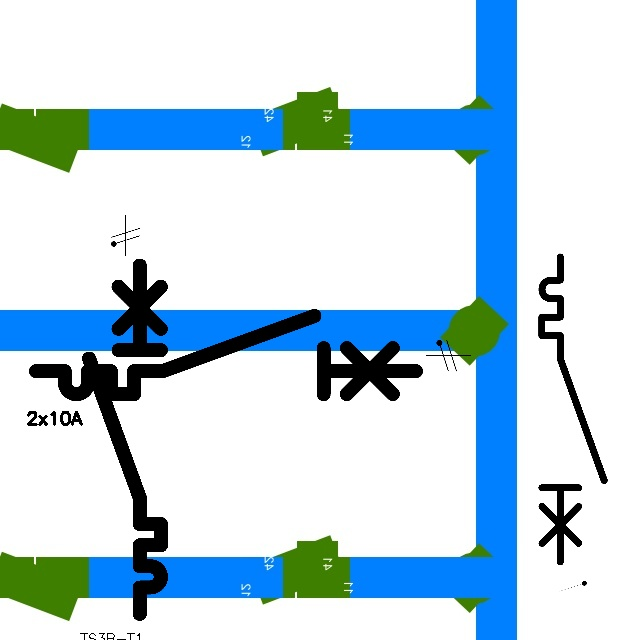interruptor_termomagnetico: (26, 306, 425, 404), (80, 256, 170, 623), (534, 249, 612, 570)
